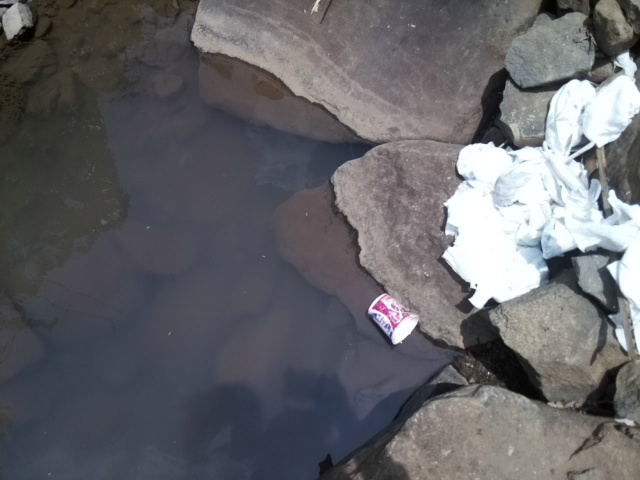Sampah_Botol_Plastik: (366, 292, 422, 346)
